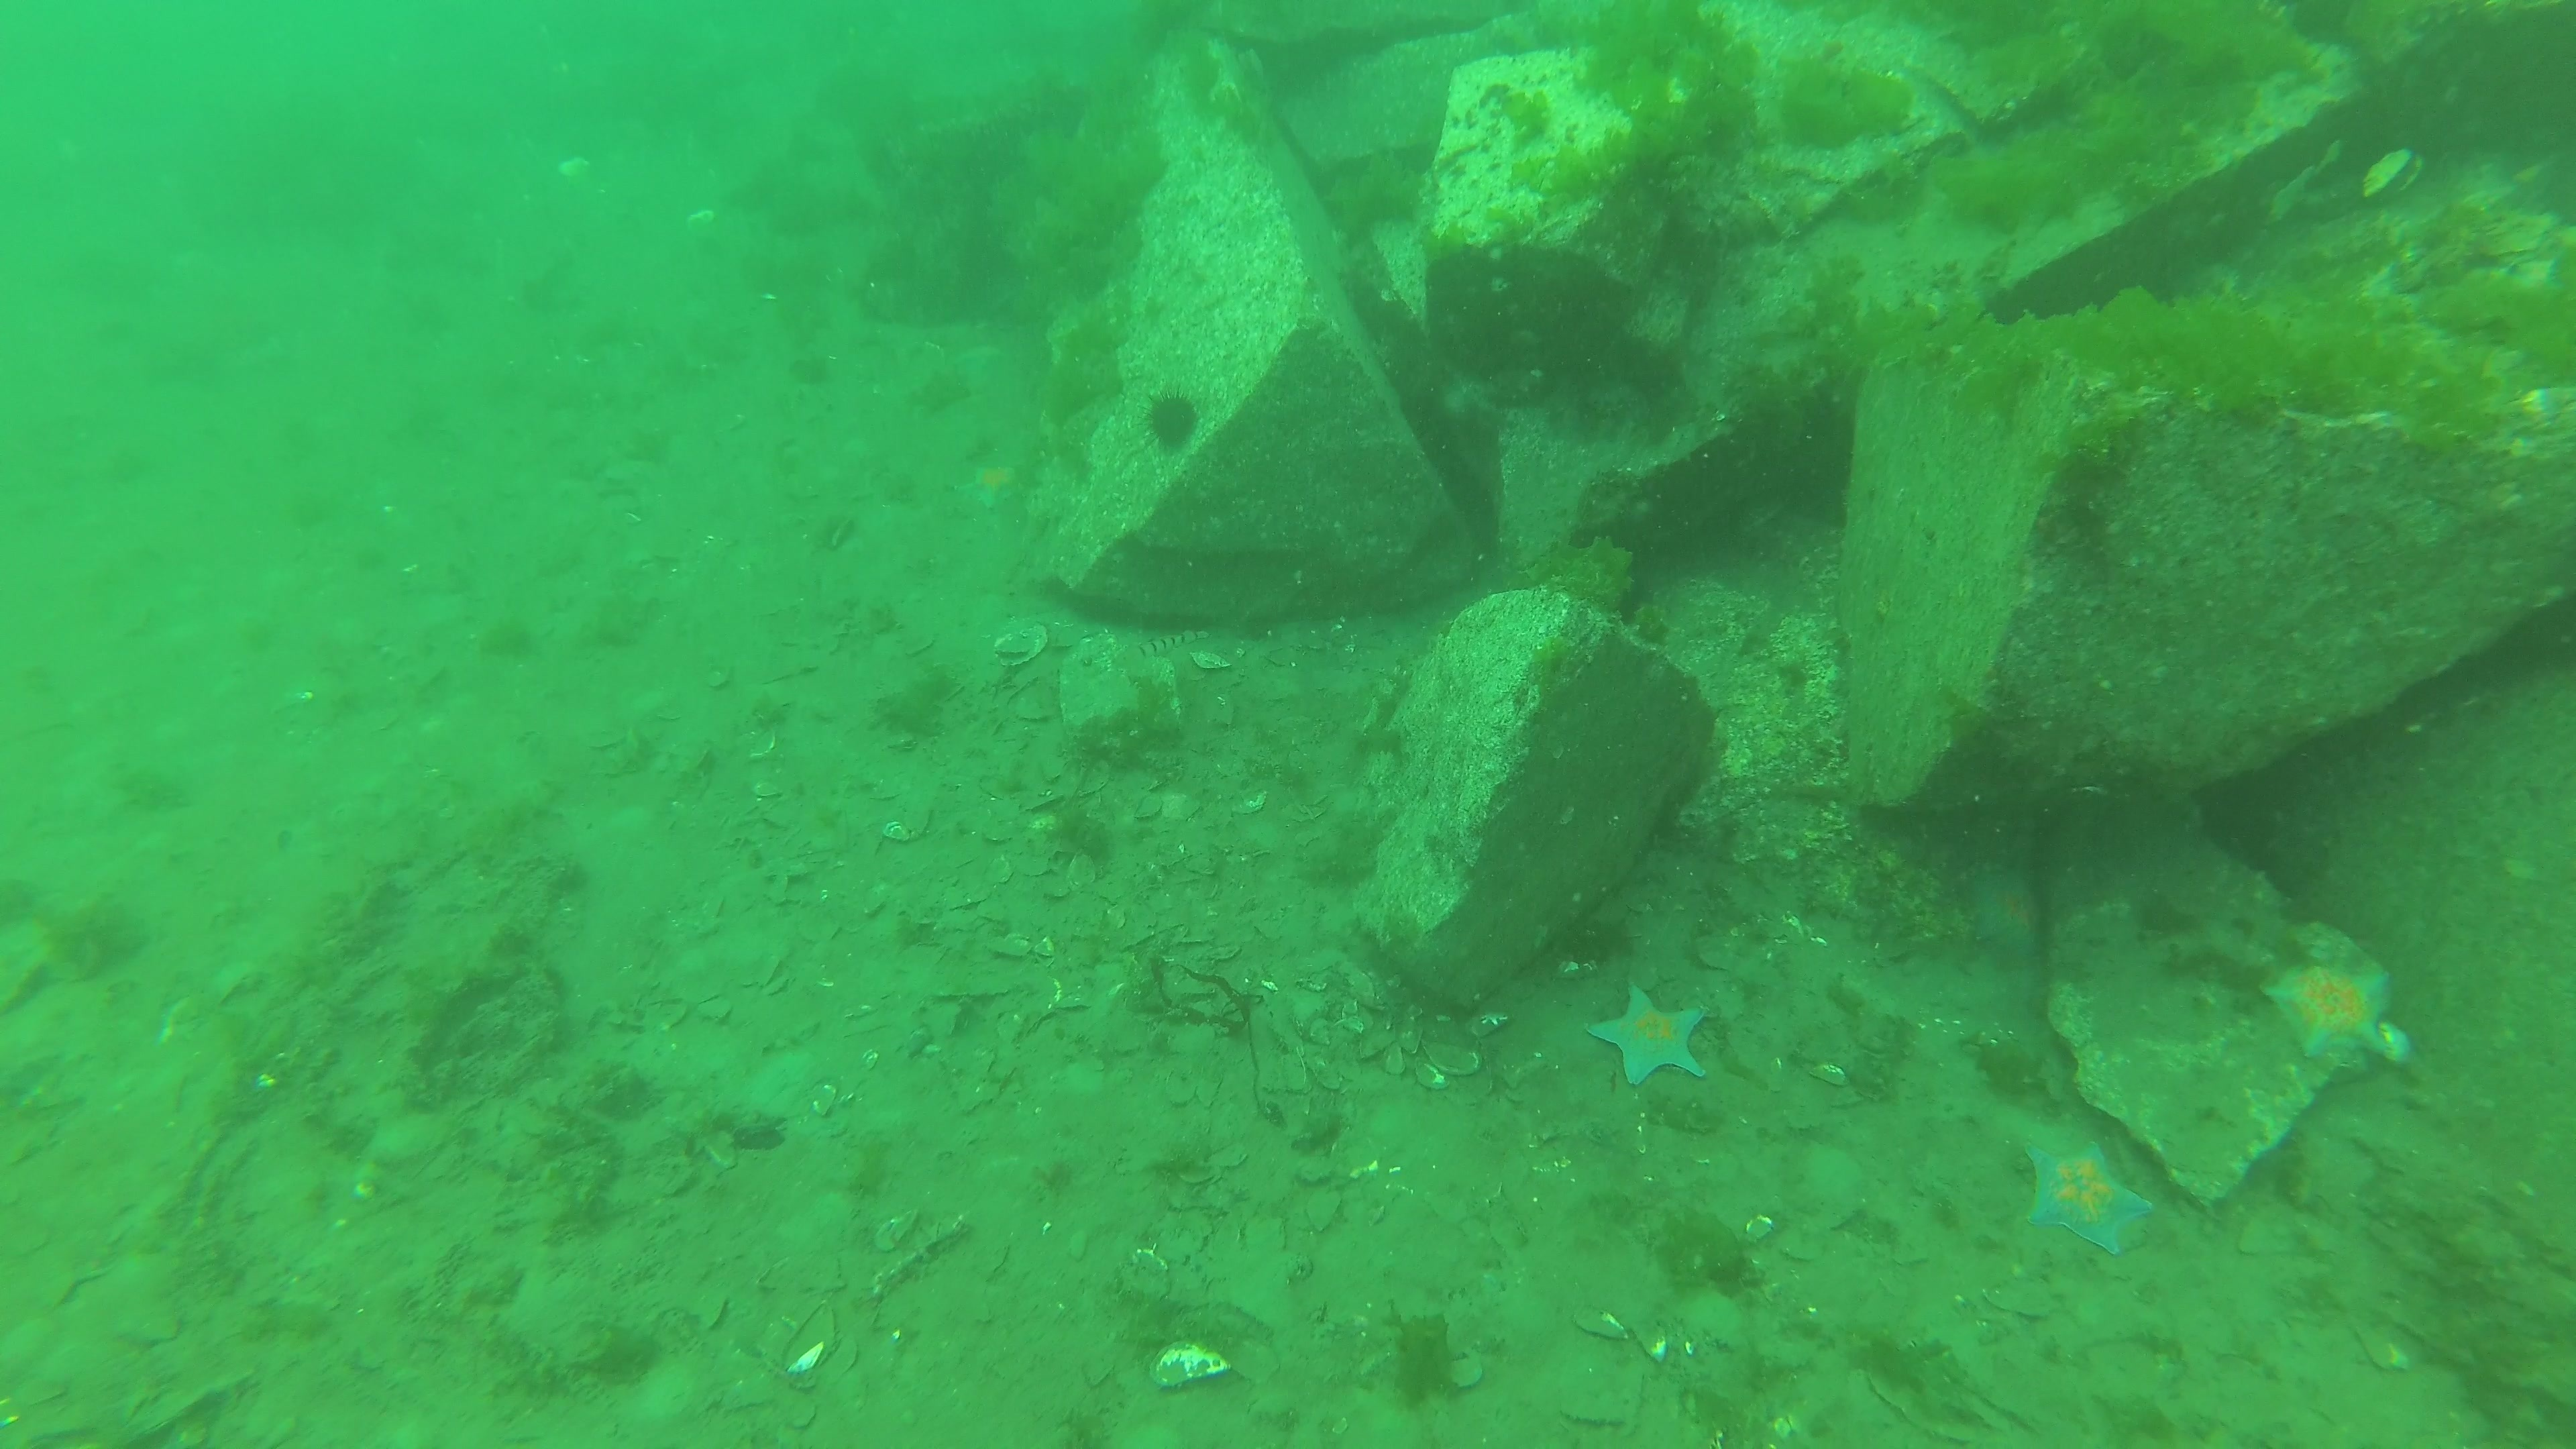echinus: (1138, 396, 1210, 455)
scallop: (2357, 143, 2434, 207)
starfish: (2263, 938, 2401, 1069), (2017, 1132, 2155, 1254), (1594, 980, 1711, 1095), (1960, 840, 2052, 984)
